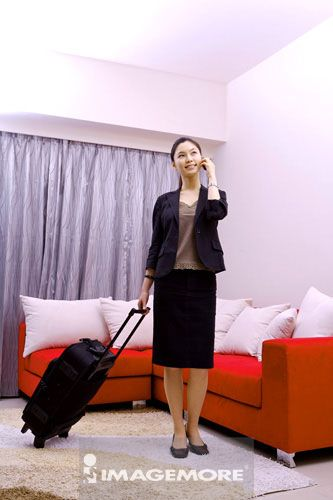talk: (176, 146, 216, 182)
